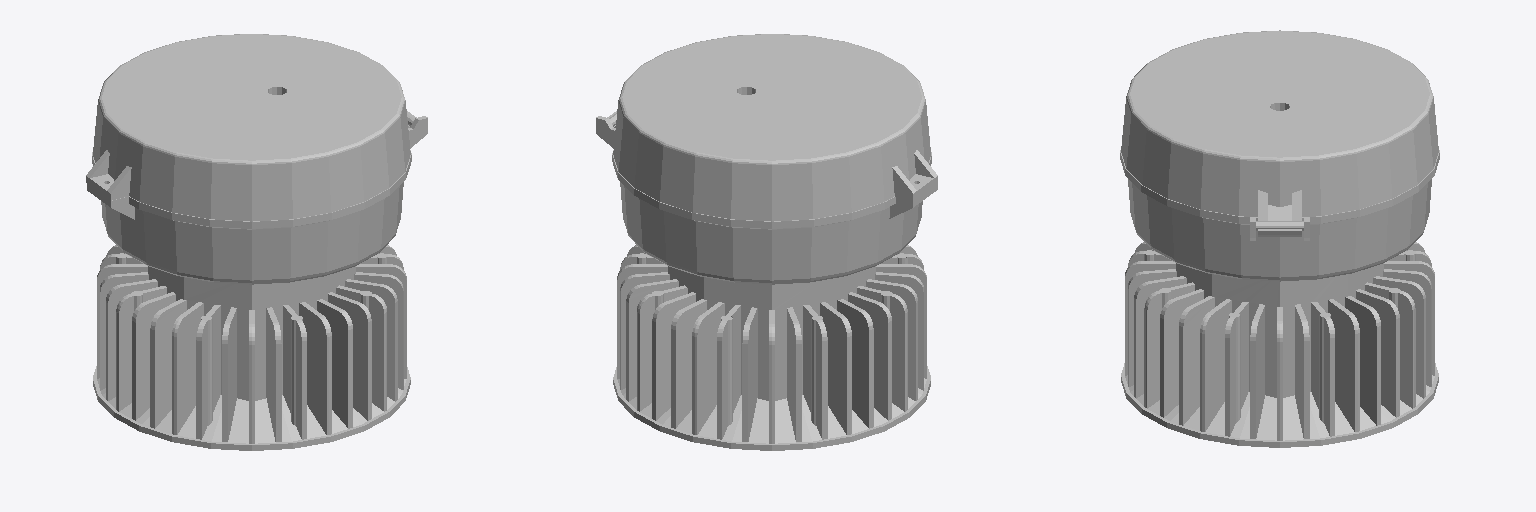
The model's file is sample.obj.
The picture shows the model from 3 angles: view 1: azimuth 30°, elevation 25°; view 2: azimuth 150°, elevation 25°; view 3: azimuth 270°, elevation 25°; orthographic projection.
Bounding box in the file's own units: 11.57 × 11.2 × 10.16.